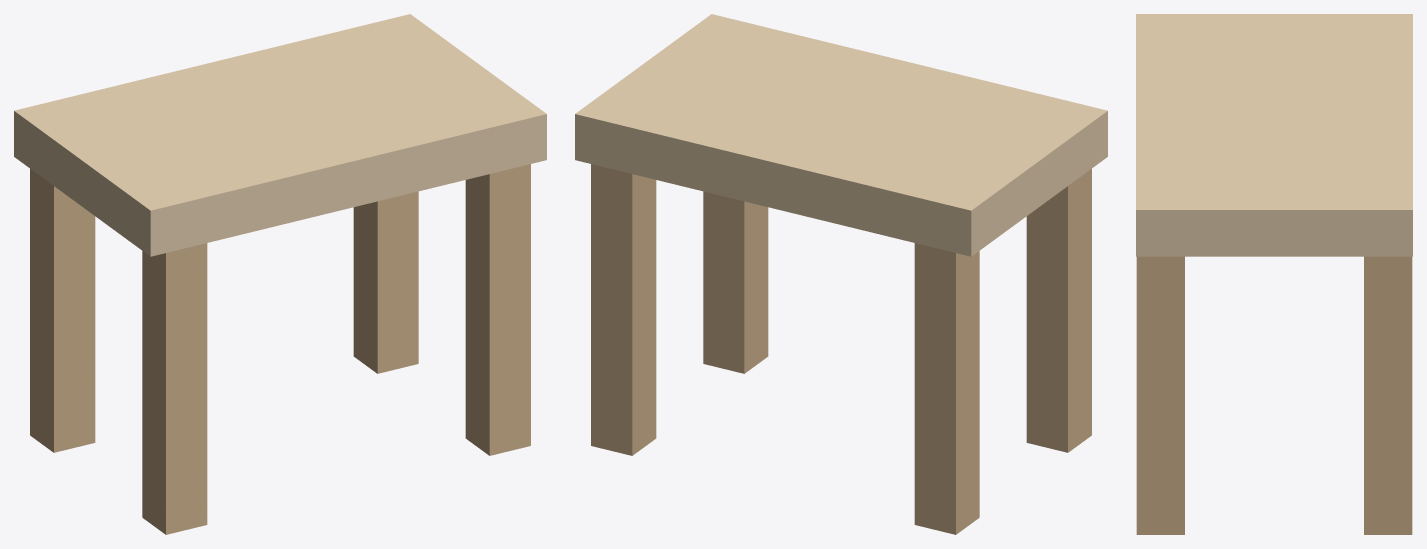
File: luggage_rack.glb
3 views of the same model, side by side, from view 1: azimuth 30°, elevation 25°; view 2: azimuth 150°, elevation 25°; view 3: azimuth 270°, elevation 25° (orthographic).
Parts seen in each view (by area): view 1: luggage_rack_oak_light_0, luggage_rack_oak_2, luggage_rack_oak_4, luggage_rack_oak_1, luggage_rack_oak_3; view 2: luggage_rack_oak_light_0, luggage_rack_oak_1, luggage_rack_oak_3, luggage_rack_oak_2, luggage_rack_oak_4; view 3: luggage_rack_oak_light_0, luggage_rack_oak_3, luggage_rack_oak_4.
Part boxes in pixels (x1=…): luggage_rack_oak_light_0: x1=14, y1=14, x2=546, y2=256; luggage_rack_oak_2: x1=142, y1=243, x2=207, y2=534; luggage_rack_oak_4: x1=465, y1=164, x2=530, y2=455; luggage_rack_oak_1: x1=30, y1=169, x2=95, y2=452; luggage_rack_oak_3: x1=353, y1=191, x2=418, y2=373; luggage_rack_oak_light_0: x1=575, y1=14, x2=1107, y2=256; luggage_rack_oak_1: x1=914, y1=243, x2=979, y2=534; luggage_rack_oak_3: x1=591, y1=164, x2=656, y2=455; luggage_rack_oak_2: x1=1026, y1=169, x2=1091, y2=452; luggage_rack_oak_4: x1=703, y1=191, x2=768, y2=373; luggage_rack_oak_light_0: x1=1136, y1=14, x2=1412, y2=256; luggage_rack_oak_3: x1=1364, y1=256, x2=1412, y2=534; luggage_rack_oak_4: x1=1136, y1=256, x2=1184, y2=534.
Bounding box in the file's own units: 0.72 × 0.57 × 0.43.
